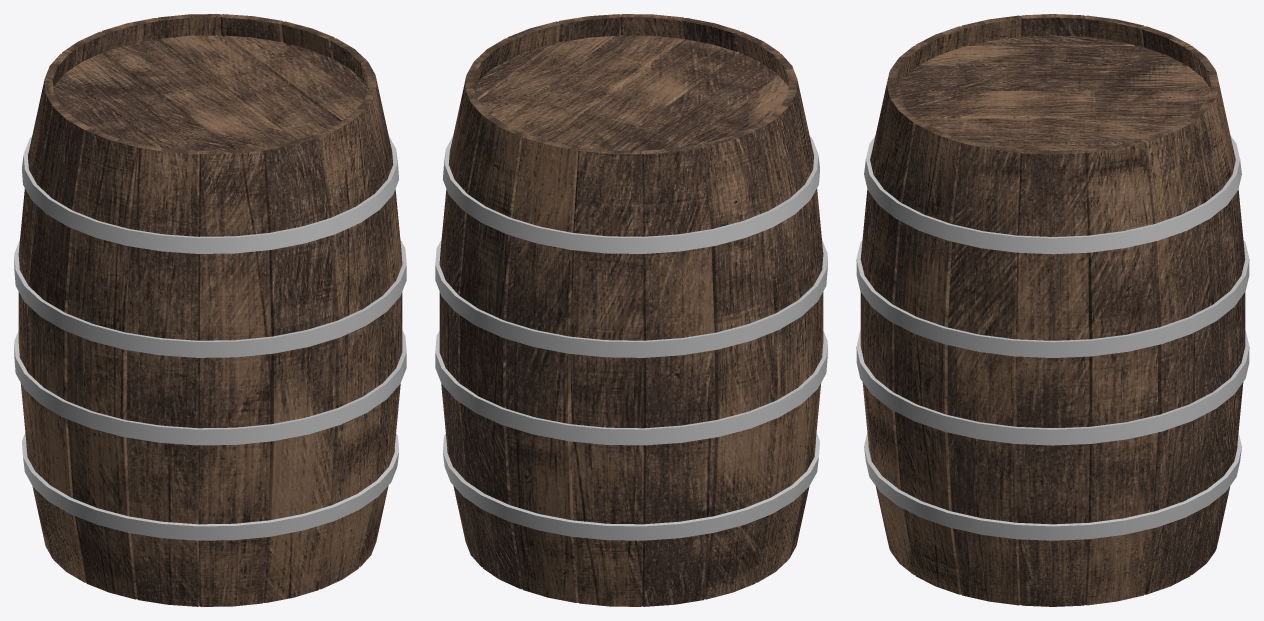
The model's file is Barrel.fbx.
3 renders of one model, left to right at view 1: azimuth 30°, elevation 25°; view 2: azimuth 150°, elevation 25°; view 3: azimuth 270°, elevation 25°, orthographic.
Visible parts, largest first — view 1: Circle.014, Circle.013, Circle.015, Circle.012, Circle.016, Circle.011, Circle.027, Circle.017, Circle.032, Circle.033, Circle.031, Circle.030 (+13 smaller); view 2: Circle.008, Circle.009, Circle.007, Circle.010, Circle.022, Circle.011, Circle.027, Circle.021, Circle.032, Circle.033, Circle.031, Circle.030 (+13 smaller); view 3: Circle.019, Circle.018, Circle.020, Circle.017, Circle.021, Circle.016, Circle.022, Circle.027, Circle.026, Circle.032, Circle.033, Circle.031 (+14 smaller).
Part boxes in pixels (left/top/right/bottom): Circle.014: left=198, top=147, right=271, bottom=606; Circle.013: left=126, top=144, right=199, bottom=606; Circle.015: left=262, top=135, right=335, bottom=602; Circle.012: left=67, top=128, right=139, bottom=599; Circle.016: left=316, top=114, right=381, bottom=589; Circle.011: left=29, top=106, right=90, bottom=582; Circle.027: left=102, top=39, right=295, bottom=149; Circle.017: left=353, top=88, right=401, bottom=567; Circle.032: left=14, top=239, right=406, bottom=357; Circle.033: left=14, top=331, right=406, bottom=445; Circle.031: left=22, top=136, right=398, bottom=253; Circle.030: left=22, top=433, right=398, bottom=540; Circle.008: left=570, top=147, right=643, bottom=606; Circle.009: left=642, top=144, right=715, bottom=606; Circle.007: left=506, top=135, right=579, bottom=602; Circle.010: left=702, top=128, right=774, bottom=599; Circle.022: left=460, top=114, right=525, bottom=589; Circle.011: left=751, top=106, right=812, bottom=582; Circle.027: left=546, top=39, right=739, bottom=149; Circle.021: left=440, top=88, right=488, bottom=567; Circle.032: left=435, top=239, right=827, bottom=357; Circle.033: left=435, top=331, right=827, bottom=445; Circle.031: left=443, top=136, right=819, bottom=253; Circle.030: left=443, top=433, right=819, bottom=540; Circle.019: left=1016, top=150, right=1089, bottom=606; Circle.018: left=947, top=140, right=1021, bottom=605; Circle.020: left=1084, top=140, right=1158, bottom=605; Circle.017: left=894, top=122, right=963, bottom=594; Circle.021: left=1142, top=122, right=1211, bottom=594; Circle.016: left=865, top=97, right=920, bottom=575; Circle.022: left=1185, top=97, right=1240, bottom=575; Circle.027: left=896, top=91, right=1209, bottom=118; Circle.026: left=896, top=65, right=1209, bottom=90; Circle.032: left=856, top=240, right=1249, bottom=357; Circle.033: left=856, top=330, right=1249, bottom=445; Circle.031: left=864, top=136, right=1241, bottom=254.
Bounding box in the file's own units: 70.87 × 90 × 70.87.
